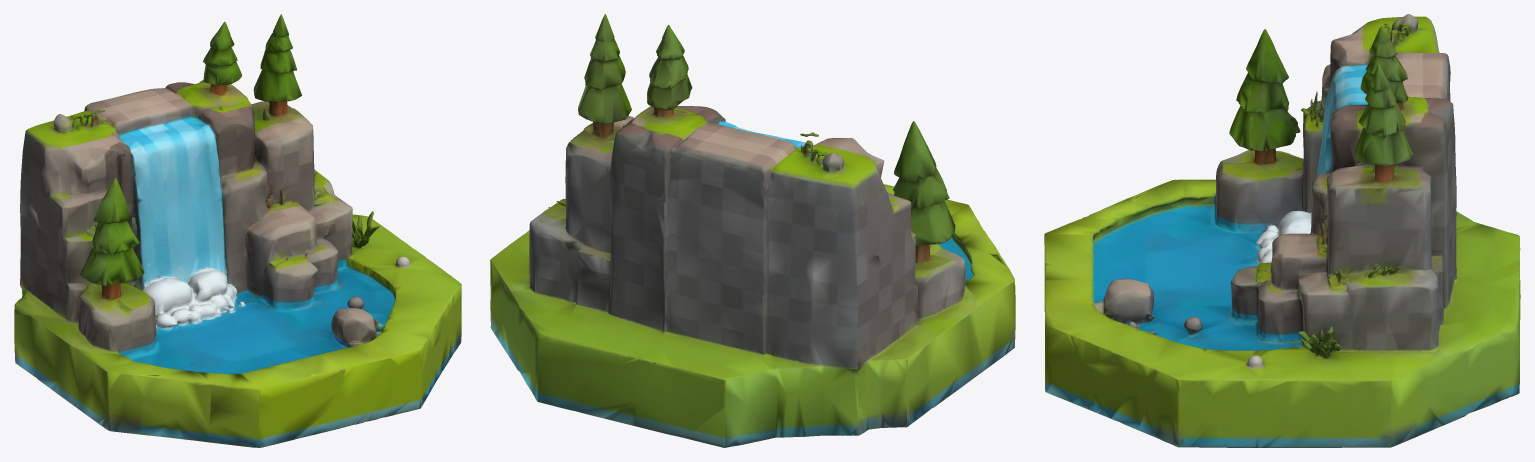
Rendered from waterfall.glb.
3 views of the same model, side by side, from view 1: azimuth 30°, elevation 25°; view 2: azimuth 150°, elevation 25°; view 3: azimuth 270°, elevation 25° (orthographic). The views are drawn at different scales.
Bounding box in the file's own units: 2 × 1.58 × 2.
Materials: 1 (1 with a texture image).
